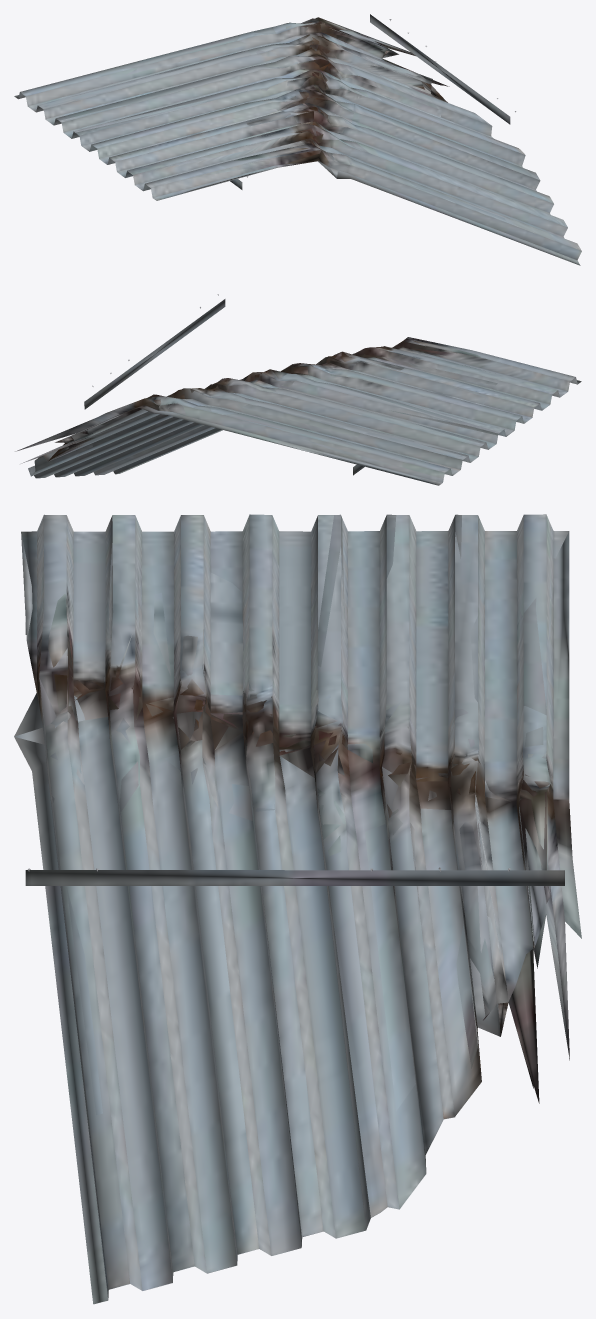
Rendered from industrial_facility_panel_lod2.glb.
3 renders of one model, top to bottom at view 1: azimuth 30°, elevation 25°; view 2: azimuth 150°, elevation 25°; view 3: azimuth 270°, elevation 25°, orthographic. The views are drawn at different scales.
Parts seen in each view (by area): view 1: industrial_facility_panel_paint; view 2: industrial_facility_panel_paint; view 3: industrial_facility_panel_paint.
Part boxes in pixels (x1,y1,x2,y2): industrial_facility_panel_paint: [14, 14, 581, 265]; industrial_facility_panel_paint: [15, 299, 581, 485]; industrial_facility_panel_paint: [14, 514, 581, 1304].
Size of the model in its own units: 2.23 by 0.9296 by 1.24.
2 materials, 1 textured.
